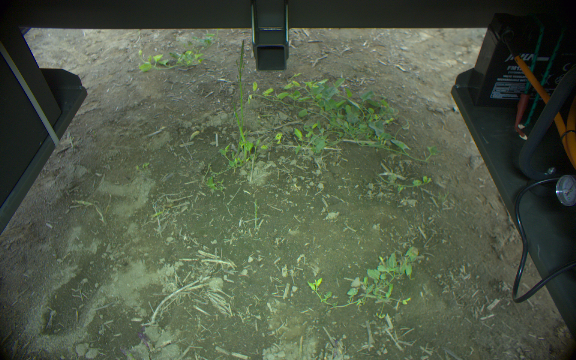aspa: (228, 98, 248, 152)
